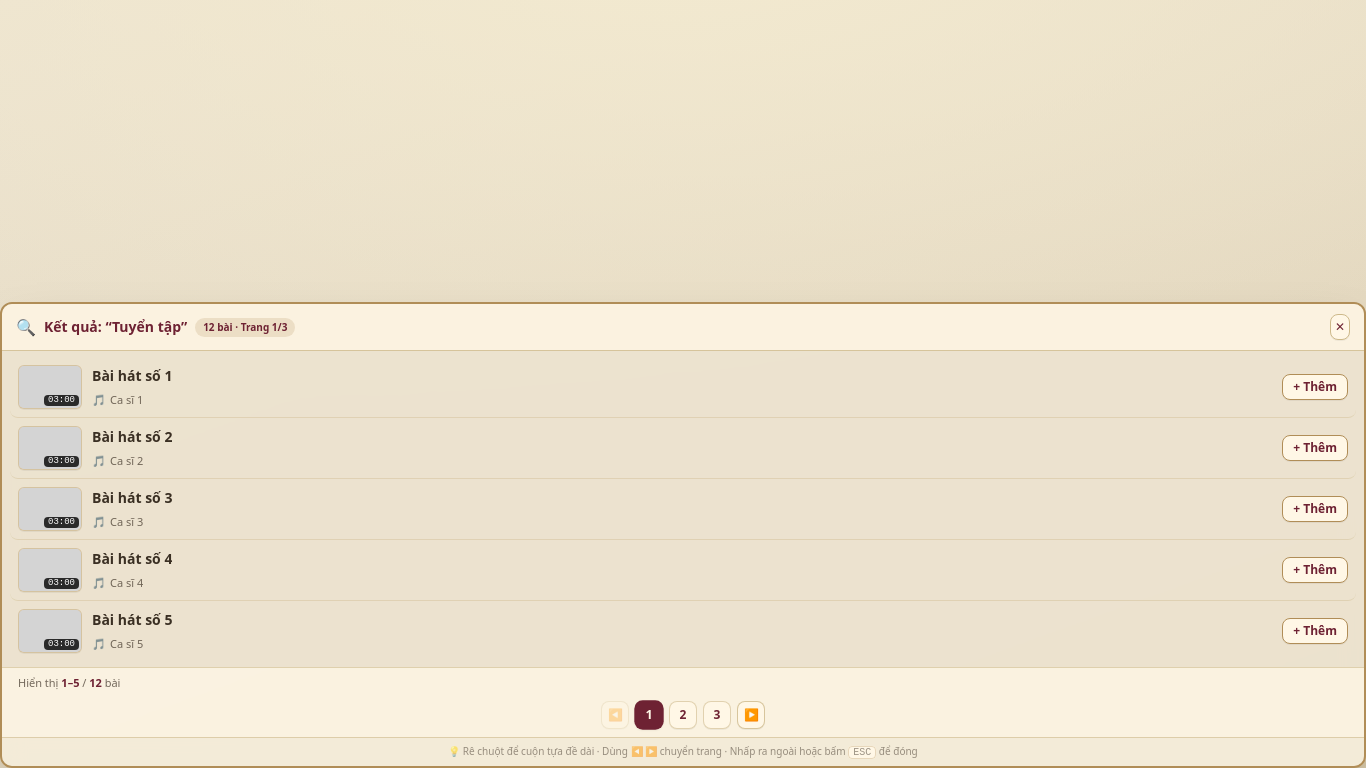
it: SearchResults overlay card › paginates results with 5 items per page and navigates pages
This screenshot has width=1366, height=768.
(page scrolled)
Expected: the text "Hiển thị 1–5 / 12 bài" is shown, [18, 676, 120, 691]
Expected: the text "Bài hát số 1" is shown, [92, 366, 172, 385]
# Navigate to page 2 via Next button
Click the button named "trang sau": (751, 715) [737, 701, 765, 729]
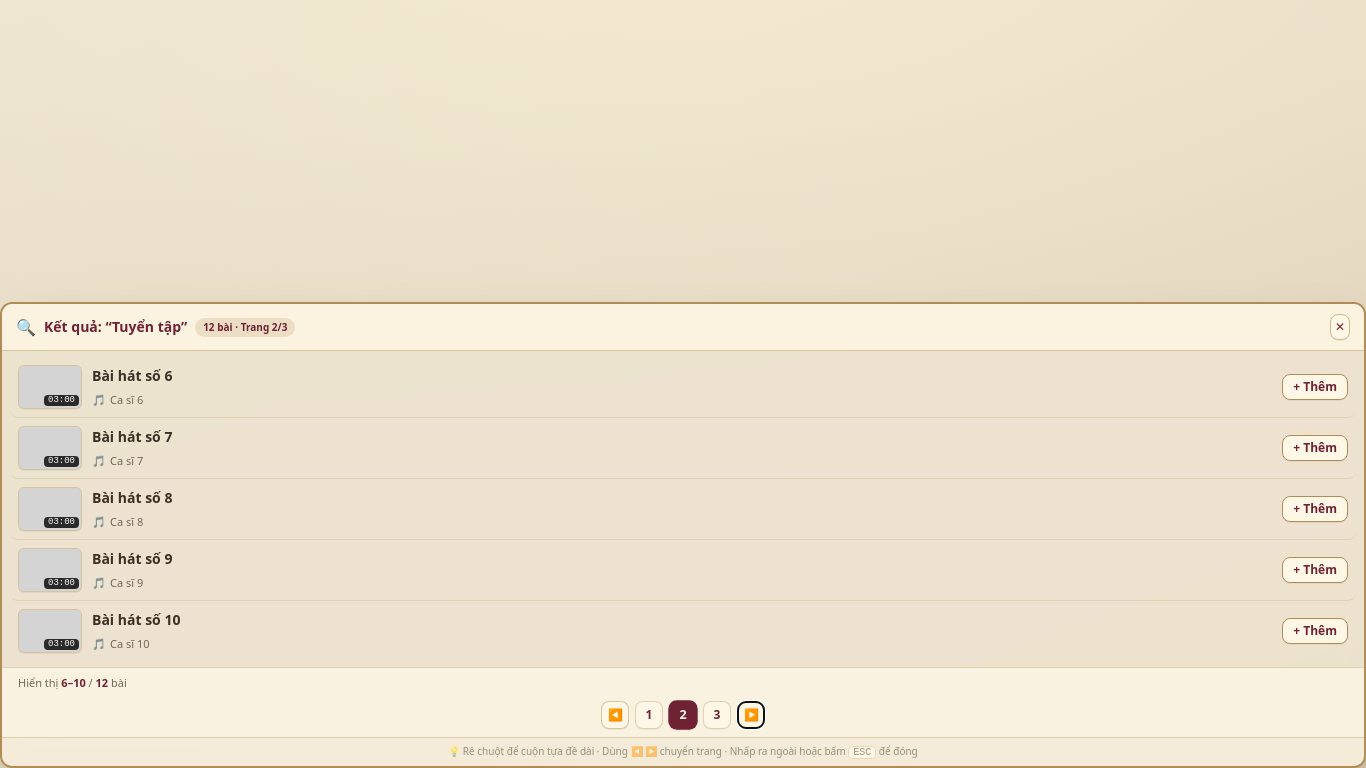
Expected: the text "Hiển thị 6–10 / 12 bài" is shown, [18, 676, 127, 691]
Expected: the text "Bài hát số 6" is shown, [92, 366, 172, 385]
Expected: the text "Bài hát số 10" is shown, [92, 610, 180, 629]
# Jump to page 3 via page number button
Click the button named "Trang 3": (717, 715) [703, 701, 731, 729]
(page scrolled)
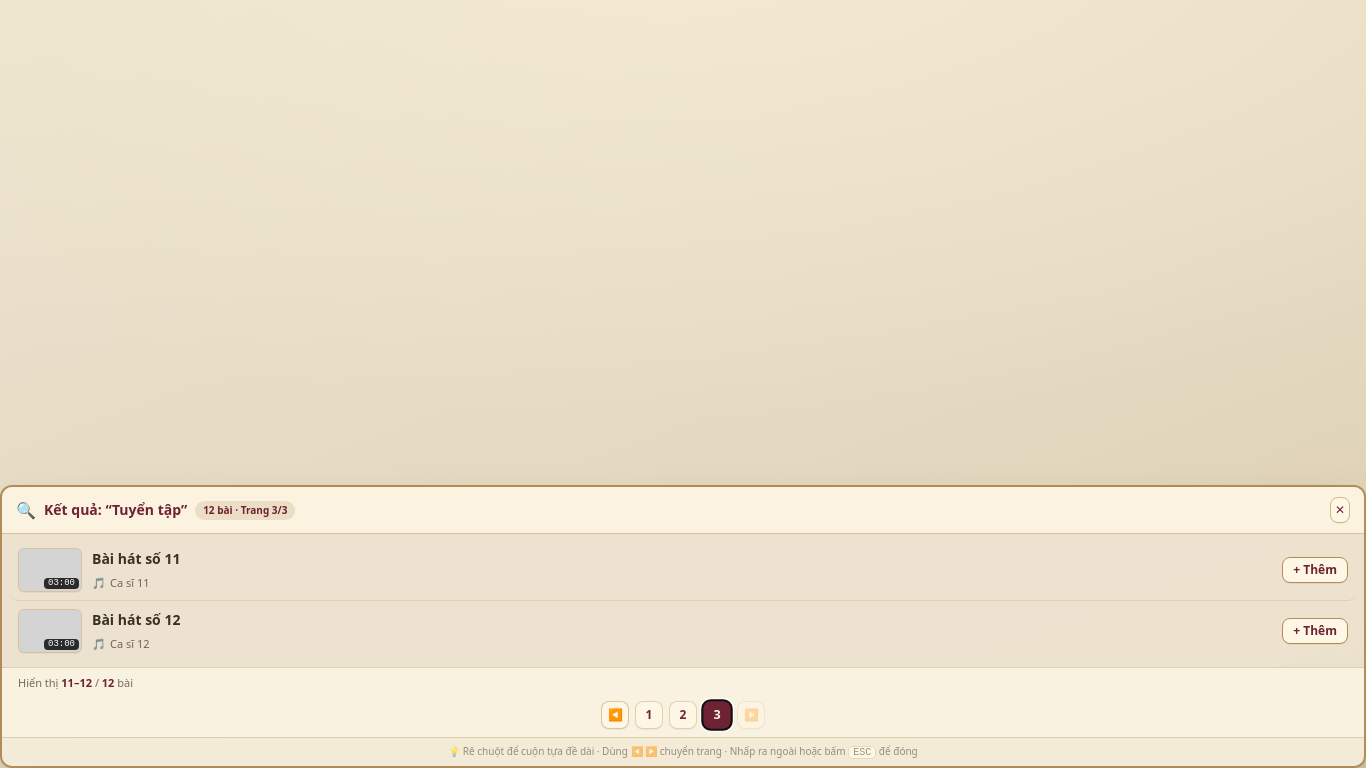
Expected: the text "Hiển thị 11–12 / 12 bài" is shown, [18, 676, 133, 691]
Expected: the text "Bài hát số 11" is shown, [92, 549, 180, 568]
Expected: the text "Bài hát số 12" is shown, [92, 610, 180, 629]
